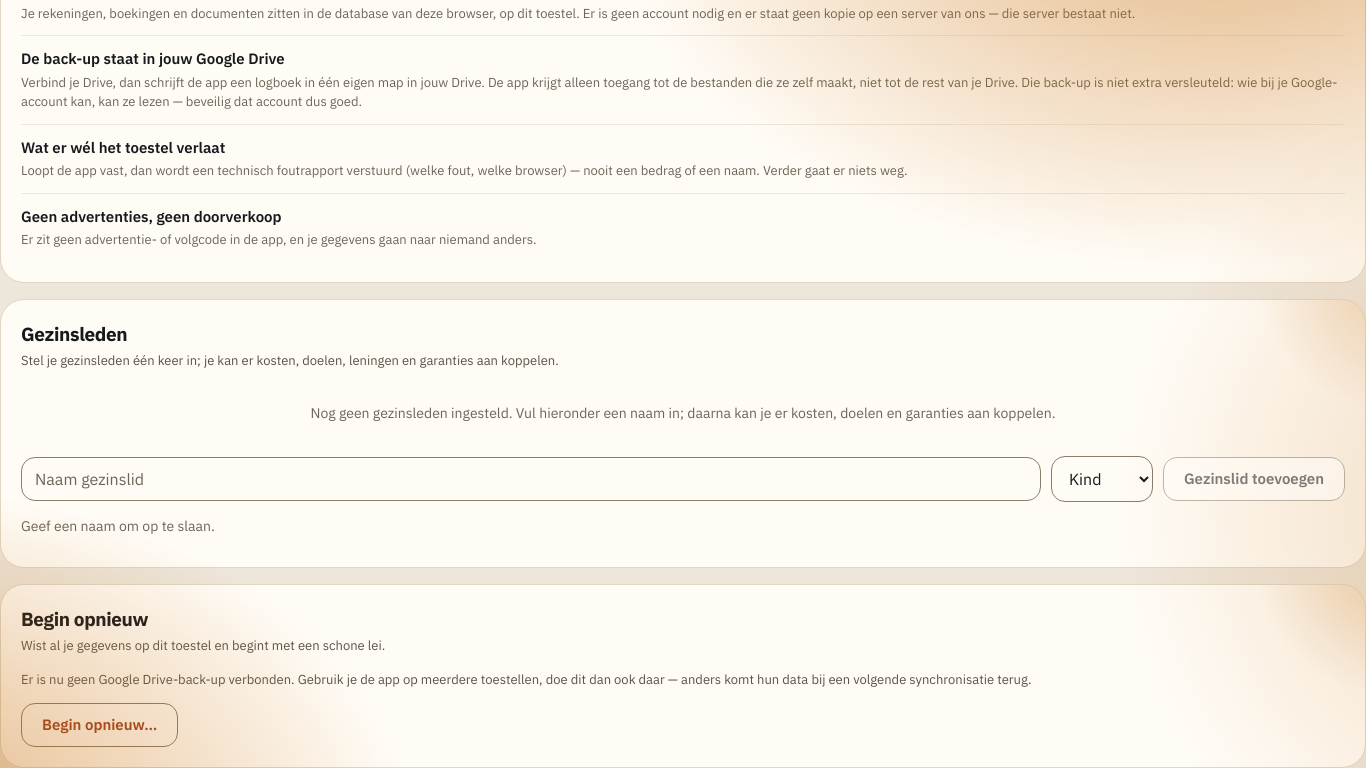
Test case: InstellingenSectie — begin opnieuw › meldt enkel dit toestel wanneer er geen Drive-back-up verbonden is
(page scrolled)
Click the button "Begin opnieuw…": x=100, y=725 21,703 -> 178,747
(page scrolled)
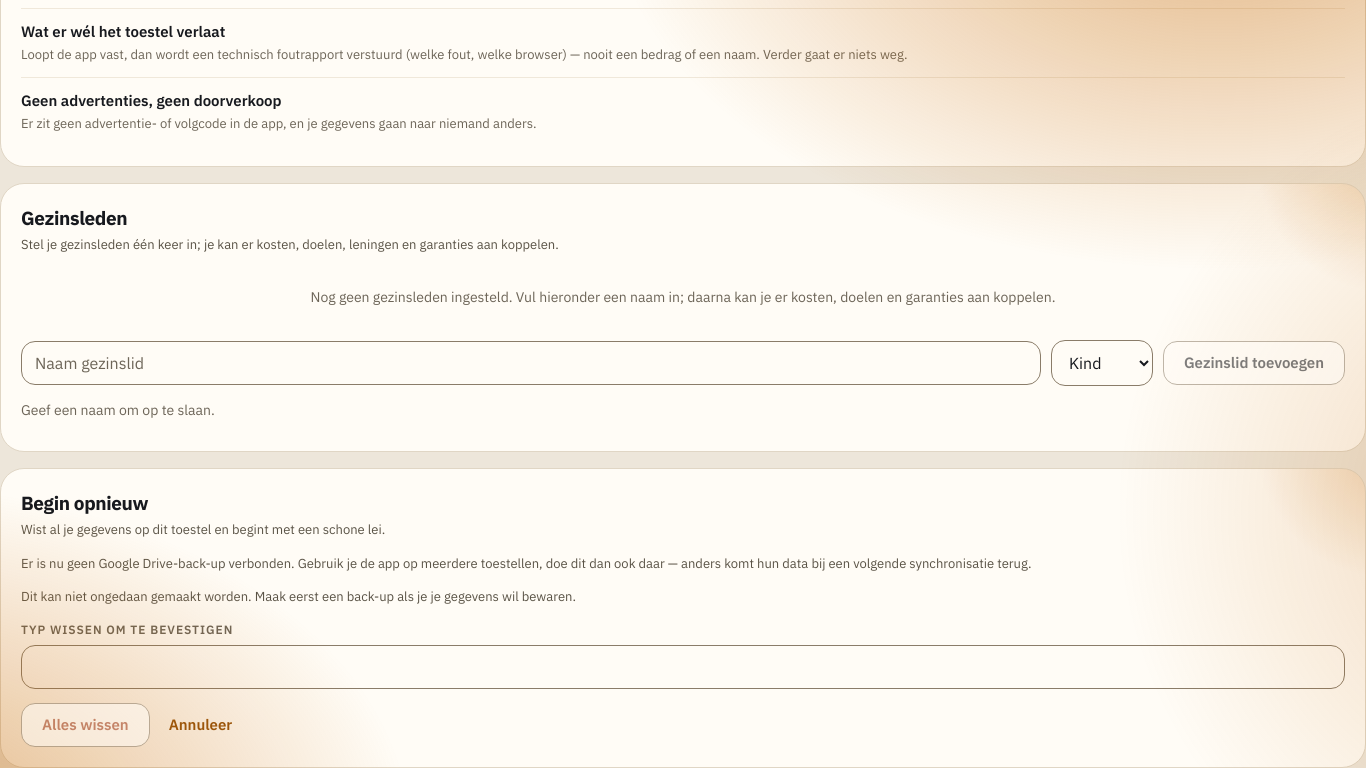
In the field labelled "Typ WISSEN om te bevestigen": x=683, y=667 21,645 -> 1345,689, type "WISSEN"
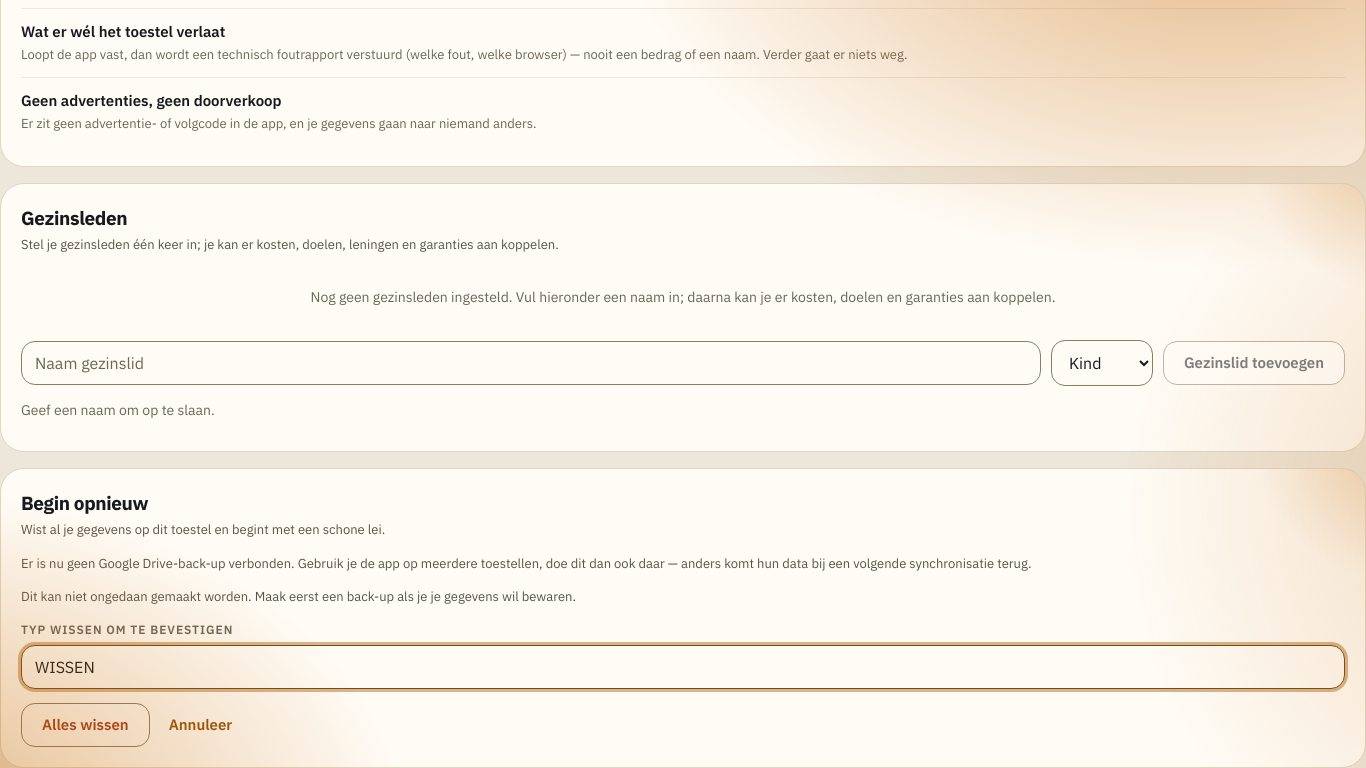
Click the button "Alles wissen": x=85, y=725 21,703 -> 150,747
(page scrolled)
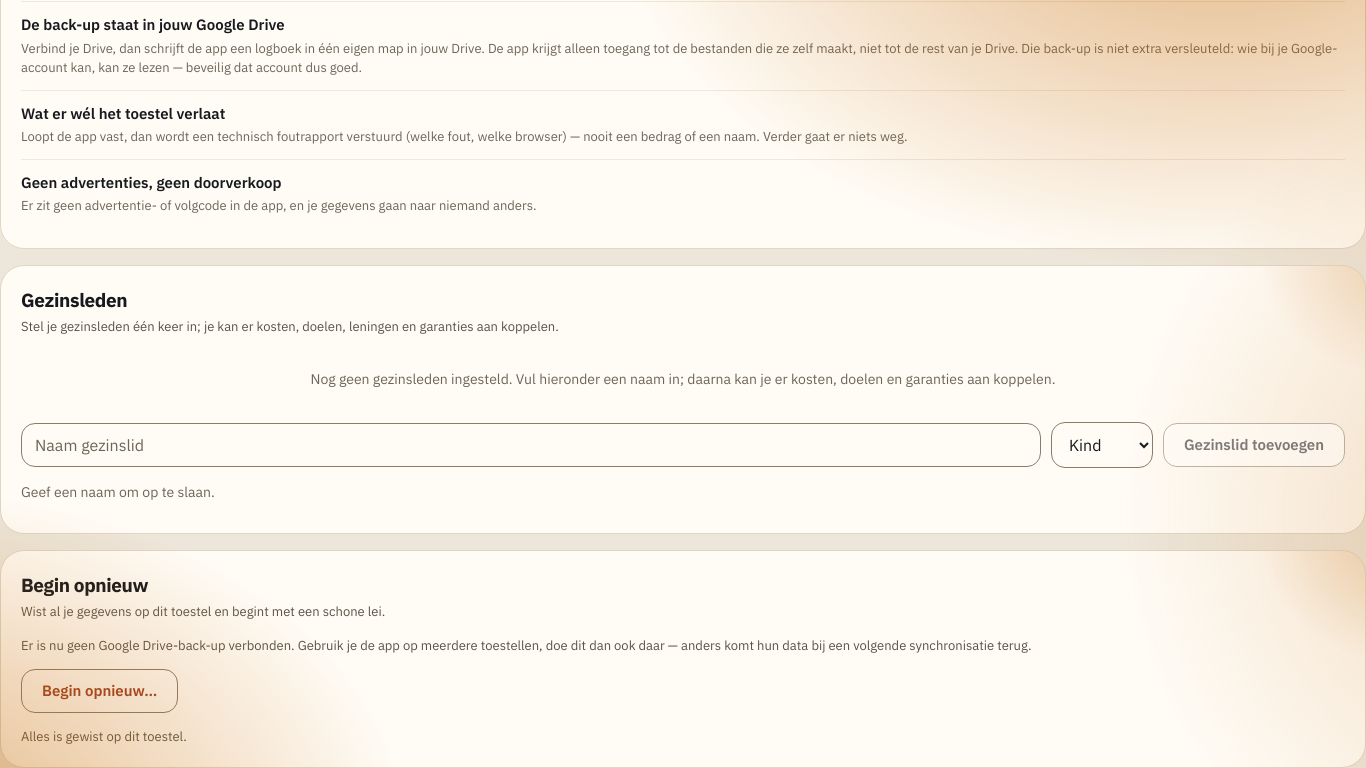
Check: the text "Alles is gewist op dit toestel." is shown, box 21,728 -> 187,745
